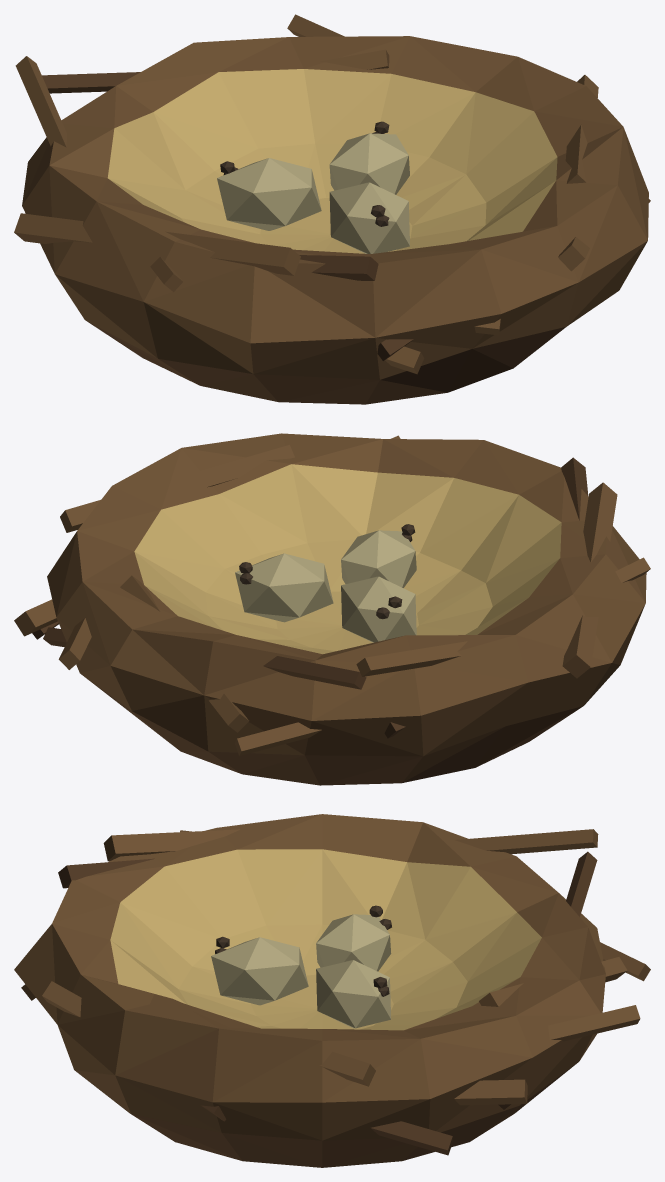
The model's file is GullNest.obj.
3 views of the same model, one above another, from view 1: azimuth 30°, elevation 25°; view 2: azimuth 150°, elevation 25°; view 3: azimuth 270°, elevation 25° (orthographic). The views are drawn at different scales.
Visible parts, largest first — view 1: GullNest; view 2: GullNest; view 3: GullNest.
Part boxes in pixels (x1=…): GullNest: x1=14, y1=14, x2=650, y2=404; GullNest: x1=14, y1=433, x2=650, y2=785; GullNest: x1=14, y1=814, x2=650, y2=1167.
Bounding box in the file's own units: 0.4752 × 0.1492 × 0.4894.
